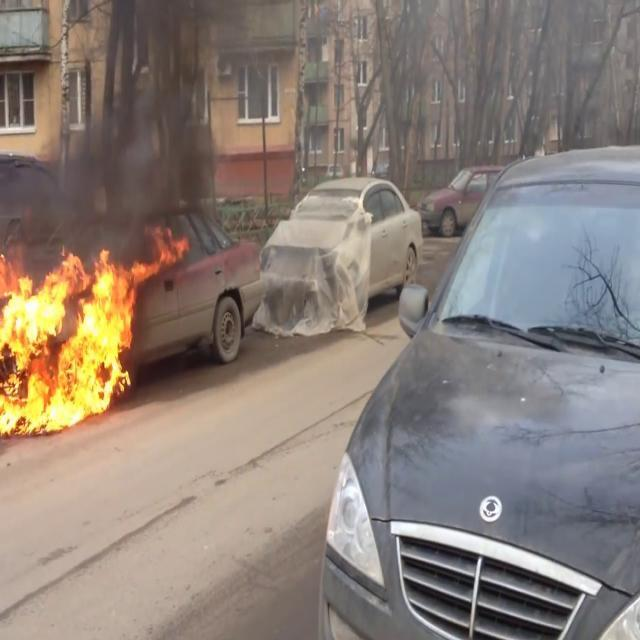Fire: (0, 240, 152, 438)
Smoke: (25, 1, 232, 247)
